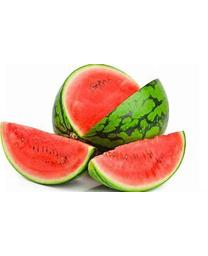watermelon: (48, 61, 169, 158), (1, 118, 95, 188), (86, 130, 187, 193)
